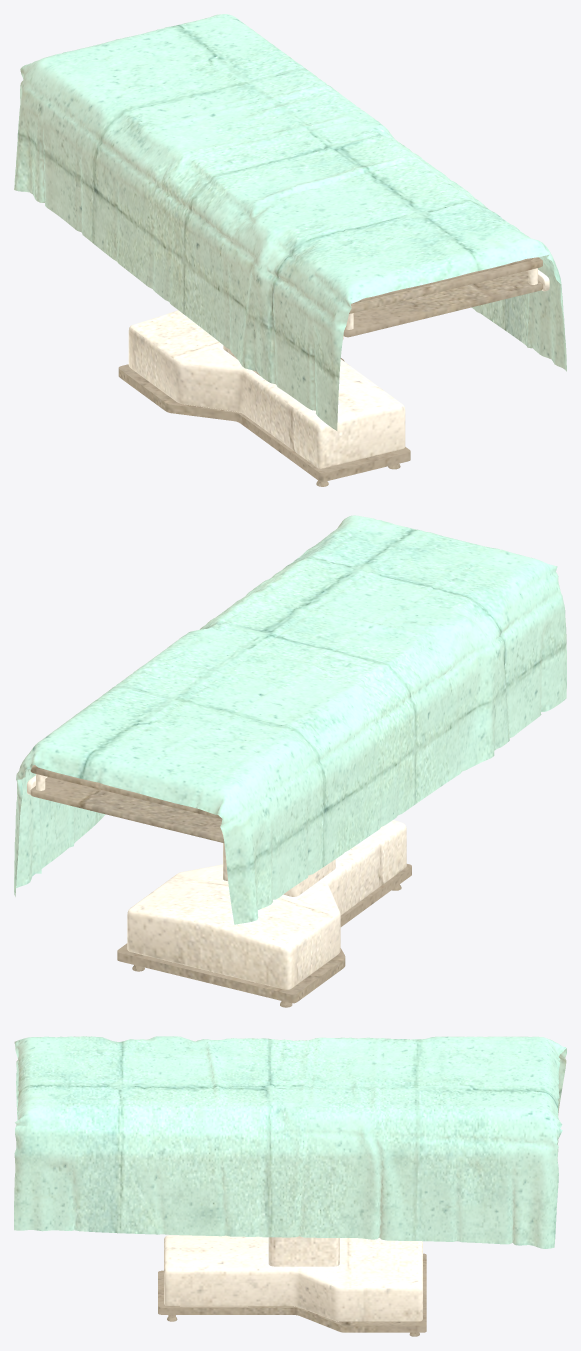
File: SM_OPR_Bed_02.fbx
3 views of the same model, one above another, from view 1: azimuth 30°, elevation 25°; view 2: azimuth 150°, elevation 25°; view 3: azimuth 270°, elevation 25° (orthographic). The views are drawn at different scales.
Parts seen in each view (by area): view 1: SM_OPR_Bed_02_LOD0; view 2: SM_OPR_Bed_02_LOD0; view 3: SM_OPR_Bed_02_LOD0.
Part boxes in pixels (x1=…): SM_OPR_Bed_02_LOD0: x1=14, y1=14, x2=566, y2=486; SM_OPR_Bed_02_LOD0: x1=14, y1=515, x2=566, y2=1007; SM_OPR_Bed_02_LOD0: x1=14, y1=1036, x2=566, y2=1336.
Bounding box in the file's own units: 89.79 × 213 × 99.7.
Materials: 2 (2 with a texture image).
